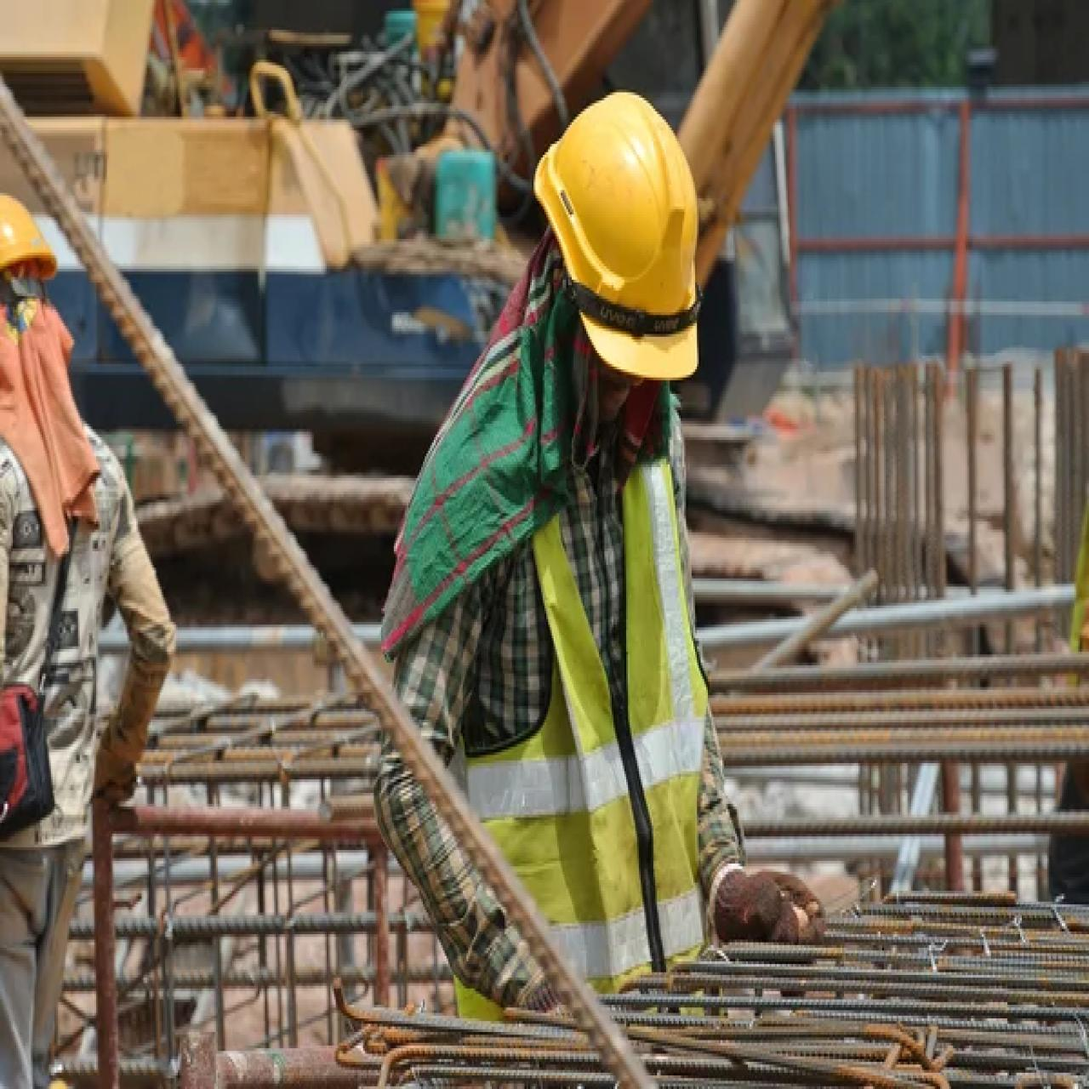NO_Safety_Vest: (0, 419, 113, 850)
Person: (347, 56, 834, 1028), (0, 174, 191, 1086)
Safety_Vest: (422, 388, 749, 1010)
